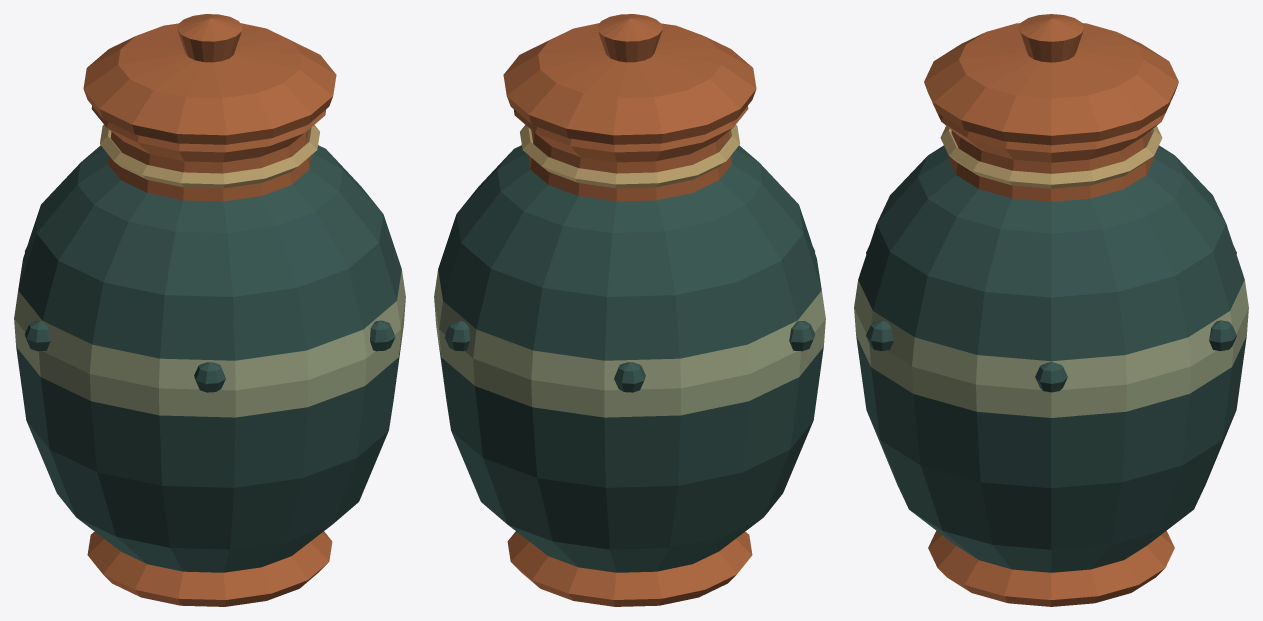
The model's file is jar.obj.
The picture shows the model from 3 angles, left to right: view 1: azimuth 30°, elevation 25°; view 2: azimuth 150°, elevation 25°; view 3: azimuth 270°, elevation 25°; orthographic projection.
Parts seen in each view (by area): view 1: lathe.003, lathe.001, lathe.011, lathe.002, lathe, lathe.004, torus, lathe.009, lathe.010, lathe.008; view 2: lathe.003, lathe.001, lathe.011, lathe.002, lathe, lathe.004, torus, lathe.007, lathe.006, lathe.008; view 3: lathe.003, lathe.001, lathe.011, lathe.002, lathe, lathe.004, torus, lathe.005, lathe.006, lathe.010.
Boxes of the visible parts, left/top/right/bottom form: lathe.003: left=18, top=145, right=401, bottom=360; lathe.001: left=16, top=327, right=403, bottom=572; lathe.011: left=83, top=14, right=336, bottom=144; lathe.002: left=14, top=269, right=405, bottom=417; lathe: left=87, top=531, right=332, bottom=606; lathe.004: left=91, top=106, right=326, bottom=201; torus: left=100, top=125, right=319, bottom=188; lathe.009: left=194, top=362, right=225, bottom=392; lathe.010: left=370, top=320, right=395, bottom=351; lathe.008: left=24, top=321, right=50, bottom=351; lathe.003: left=438, top=145, right=821, bottom=360; lathe.001: left=436, top=327, right=823, bottom=572; lathe.011: left=503, top=14, right=756, bottom=144; lathe.002: left=434, top=269, right=825, bottom=417; lathe: left=507, top=531, right=752, bottom=606; lathe.004: left=513, top=106, right=748, bottom=201; torus: left=520, top=125, right=739, bottom=188; lathe.007: left=614, top=362, right=645, bottom=392; lathe.006: left=444, top=320, right=469, bottom=351; lathe.008: left=789, top=321, right=815, bottom=351; lathe.003: left=858, top=145, right=1244, bottom=361; lathe.001: left=856, top=336, right=1246, bottom=572; lathe.011: left=924, top=14, right=1178, bottom=145; lathe.002: left=854, top=280, right=1248, bottom=417; lathe: left=928, top=531, right=1174, bottom=606; lathe.004: left=933, top=104, right=1169, bottom=201; torus: left=940, top=126, right=1162, bottom=188; lathe.005: left=1035, top=362, right=1067, bottom=392; lathe.006: left=1209, top=320, right=1236, bottom=351; lathe.010: left=866, top=320, right=893, bottom=351.
Size of the model in its own units: 0.206 by 0.29 by 0.192.
